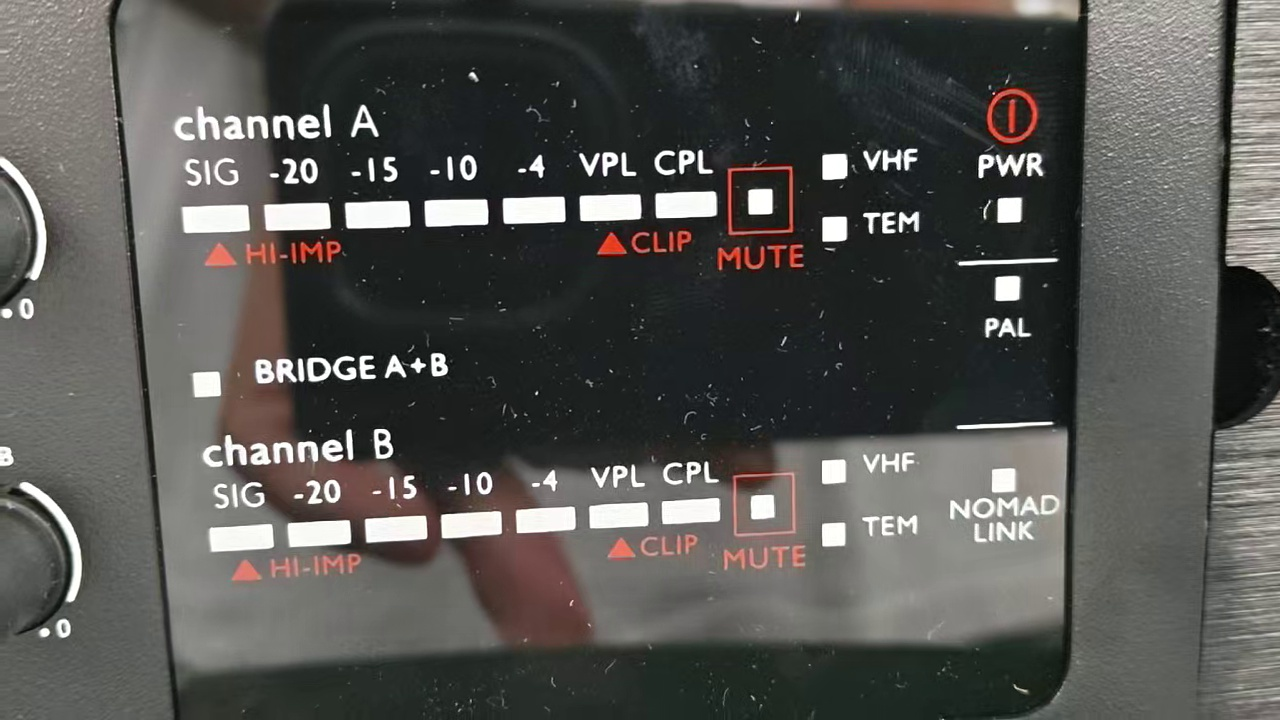FP_CPL: (646, 146, 720, 230), (658, 457, 723, 531)
FP_PWR: (964, 143, 1052, 233)
FP_PWR_area: (958, 81, 1058, 261)
FP_SIG_area: (201, 429, 933, 589), (177, 145, 925, 280)
FP_VPL: (574, 145, 646, 234), (586, 459, 653, 535)
